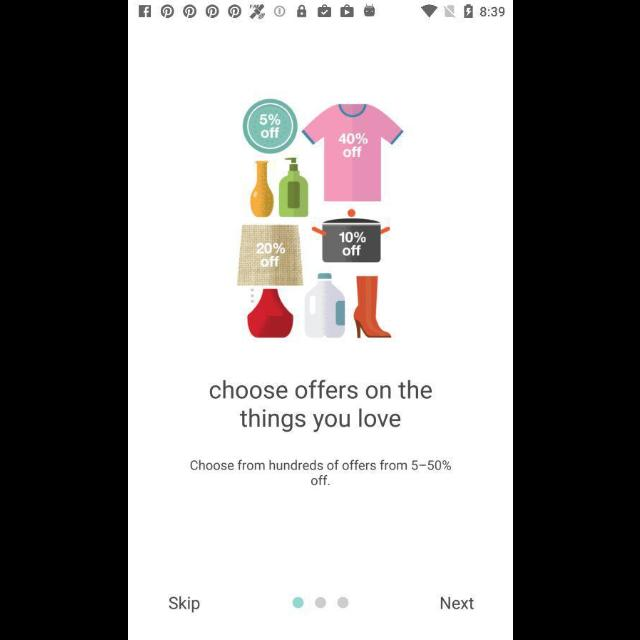image: (236, 98, 404, 340)
pageindicator: (292, 596, 348, 610)
text: (208, 379, 432, 433), (189, 458, 451, 486), (168, 595, 200, 613), (440, 596, 474, 610)
uppertaskbar: (128, 1, 512, 23)
